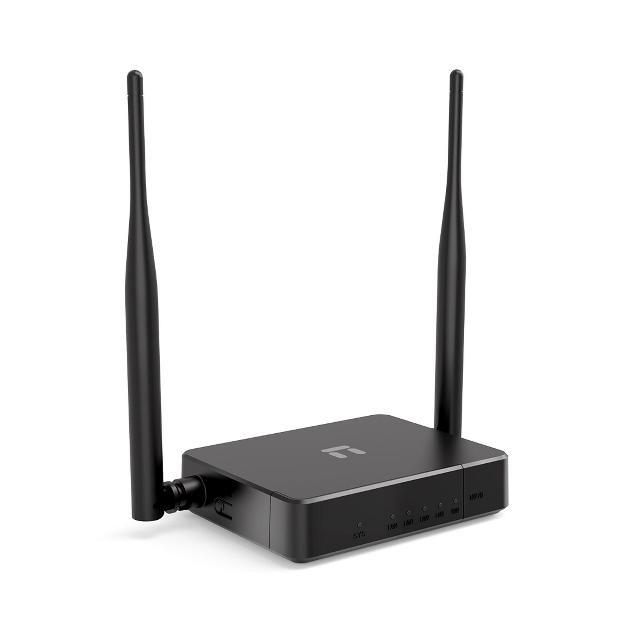Router: (124, 69, 510, 567)
